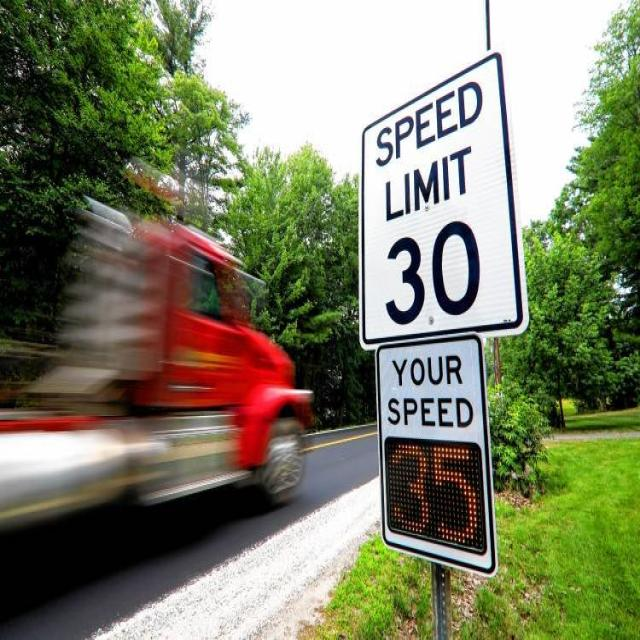speedLimit30: (357, 48, 505, 355)
